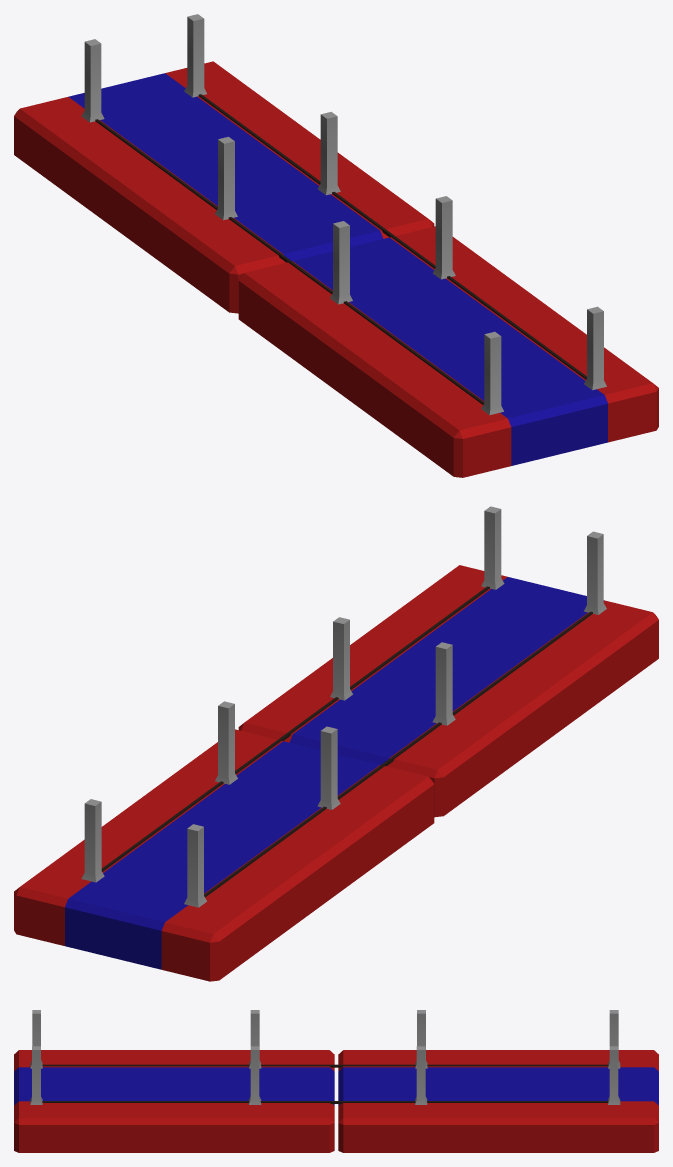
File: Floater-01.FBX
The picture shows the model from 3 angles, top to bottom: view 1: azimuth 30°, elevation 25°; view 2: azimuth 150°, elevation 25°; view 3: azimuth 270°, elevation 25°; orthographic projection. The views are drawn at different scales.
Parts seen in each view (by area): view 1: Box005; view 2: Box005; view 3: Box005.
Boxes of the visible parts, x1=… form: Box005: x1=14, y1=14, x2=658, y2=477; Box005: x1=14, y1=506, x2=658, y2=981; Box005: x1=14, y1=1010, x2=658, y2=1152.
Size of the model in its own units: 433 by 242 by 1631.
